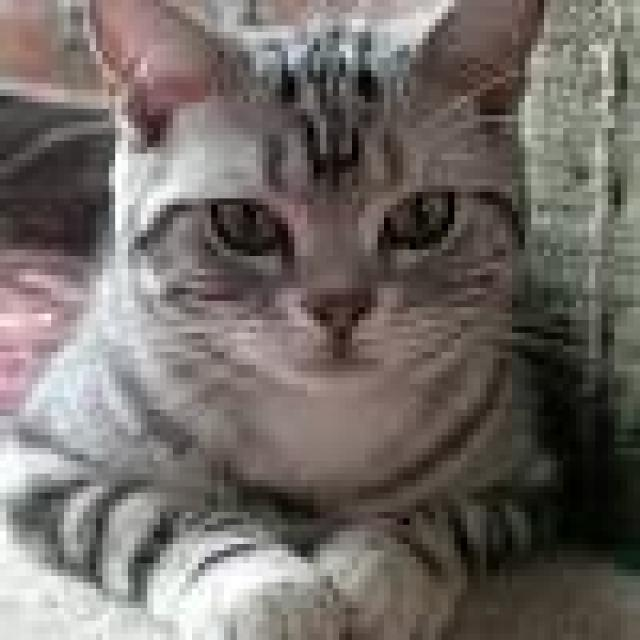cat-face: (30, 0, 608, 511)
